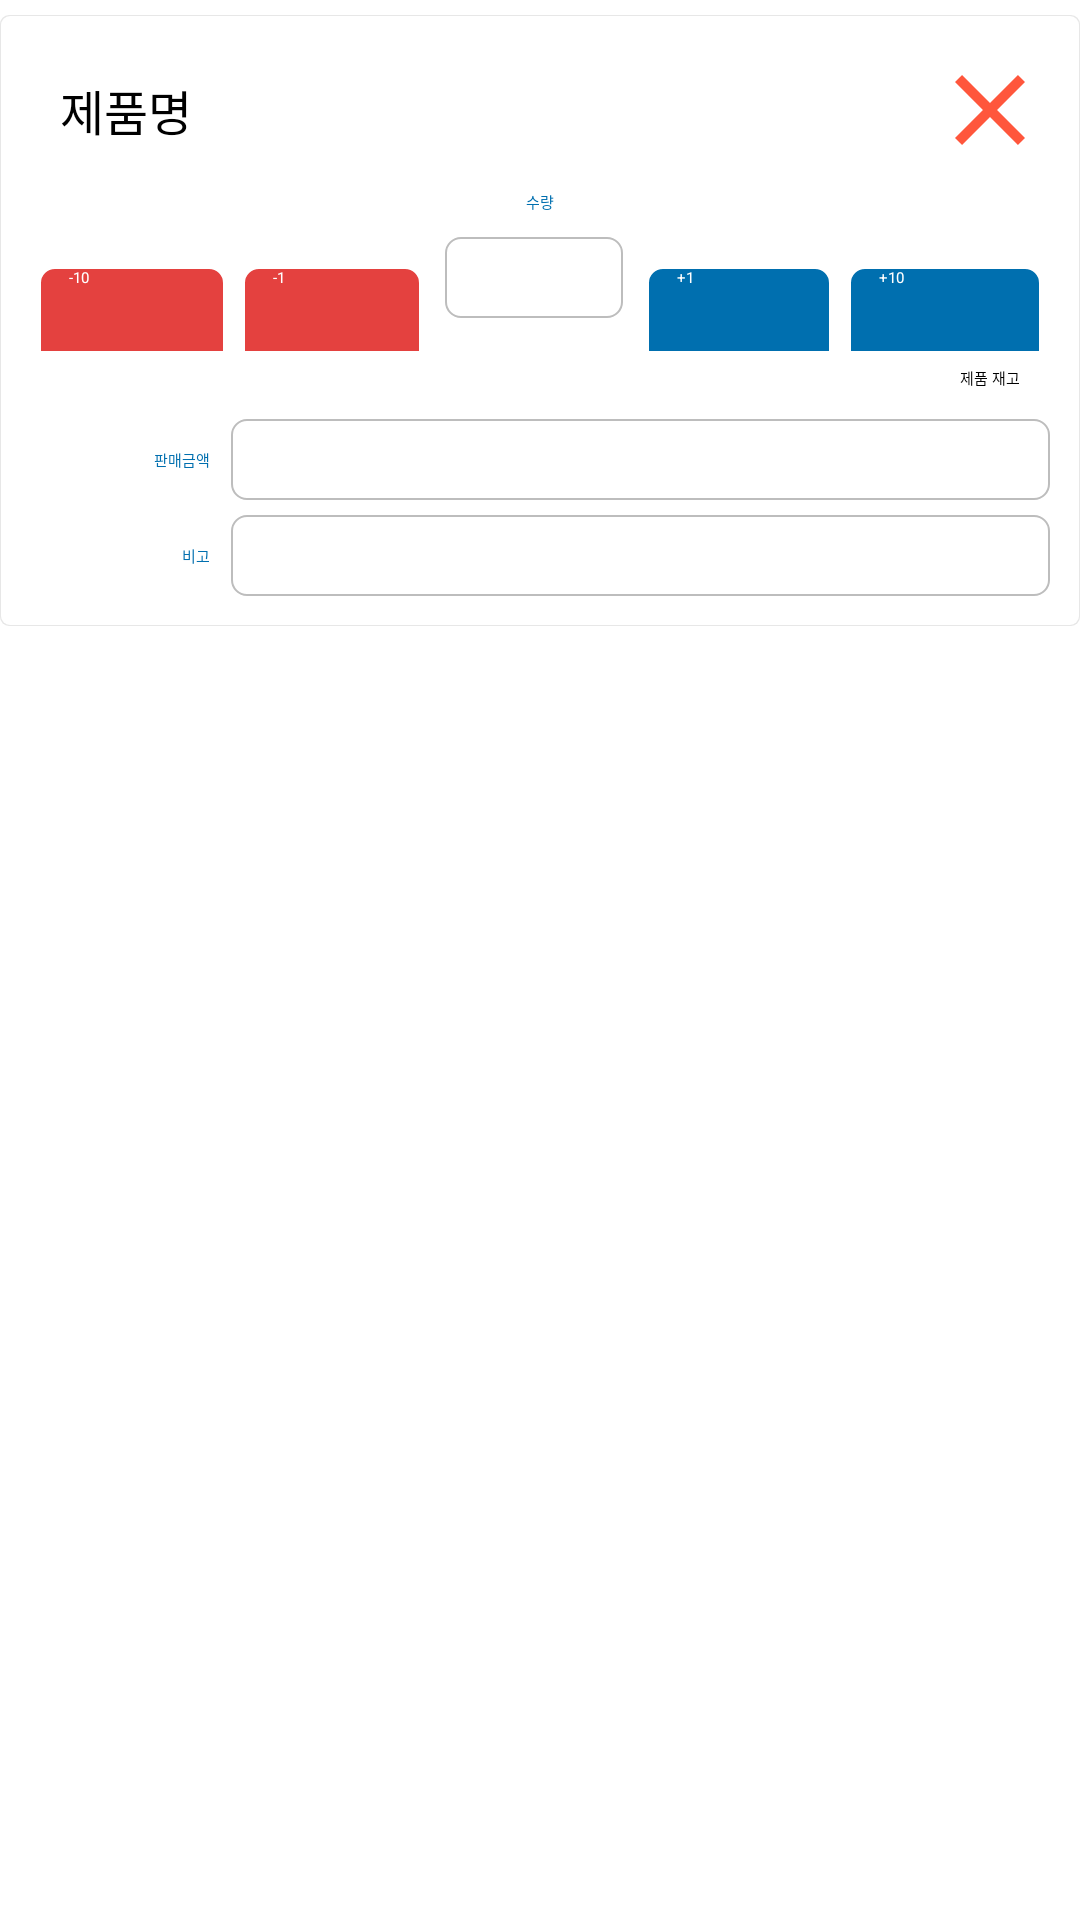

Icon bounding boxes for this 1080 × 1920 phone screenshot, format (x1, y1, x2, y2):
close: (955, 75, 1025, 145)
